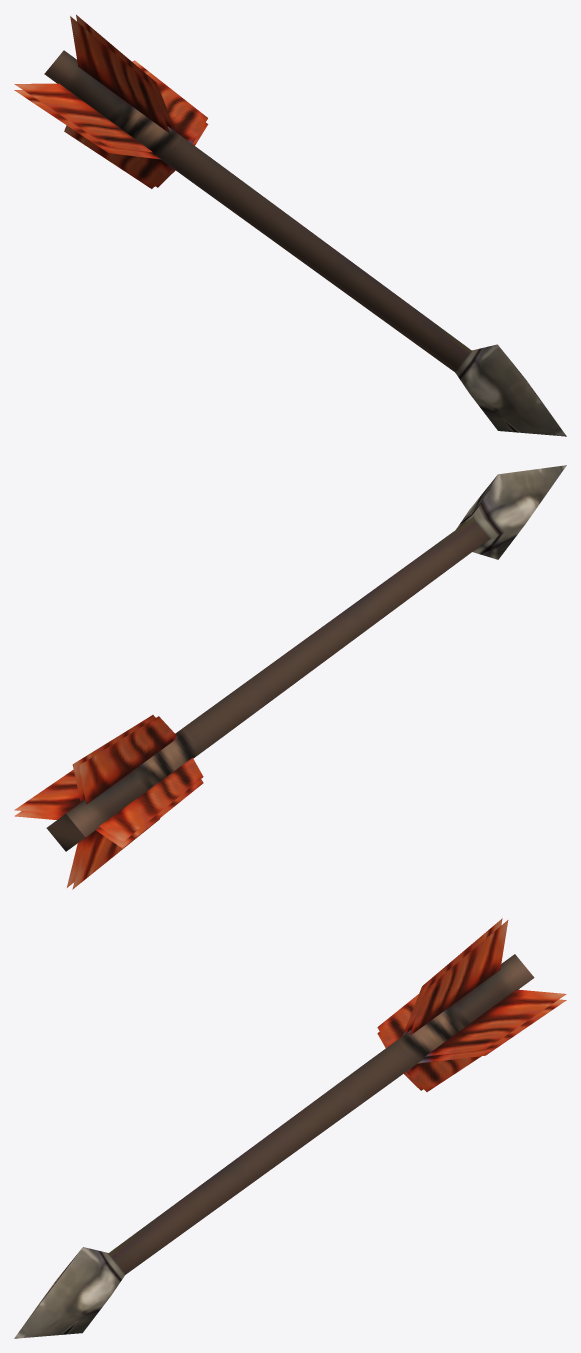
Rendered from Orc_Arrow.FBX.
The picture shows the model from 3 angles, top to bottom: view 1: azimuth 30°, elevation 25°; view 2: azimuth 150°, elevation 25°; view 3: azimuth 330°, elevation 25°; orthographic projection.
Parts seen in each view (by area): view 1: Orc_Arrow; view 2: Orc_Arrow; view 3: Orc_Arrow.
Boxes of the visible parts, left/top/right/bottom form: Orc_Arrow: left=14, top=14, right=566, bottom=436; Orc_Arrow: left=14, top=465, right=566, bottom=889; Orc_Arrow: left=14, top=918, right=566, bottom=1338.
Size of the model in its own units: 5.79 by 5.79 by 43.91.
